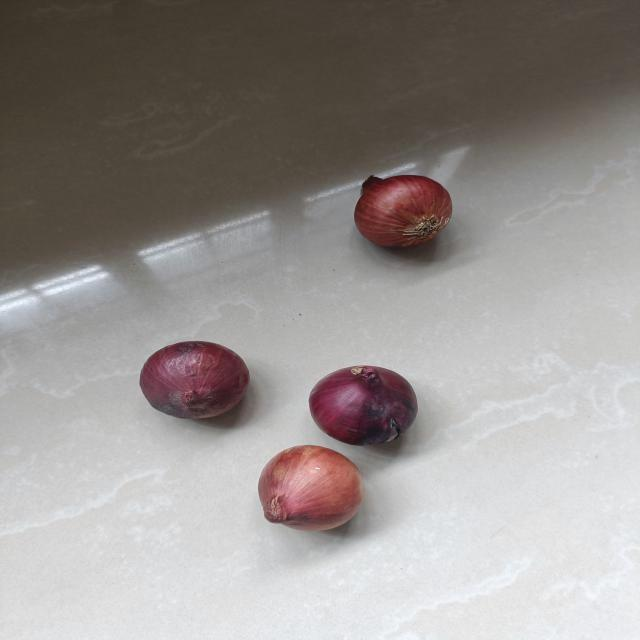onion: (134, 338, 253, 424), (253, 445, 366, 535), (305, 362, 417, 448), (351, 170, 456, 254)
